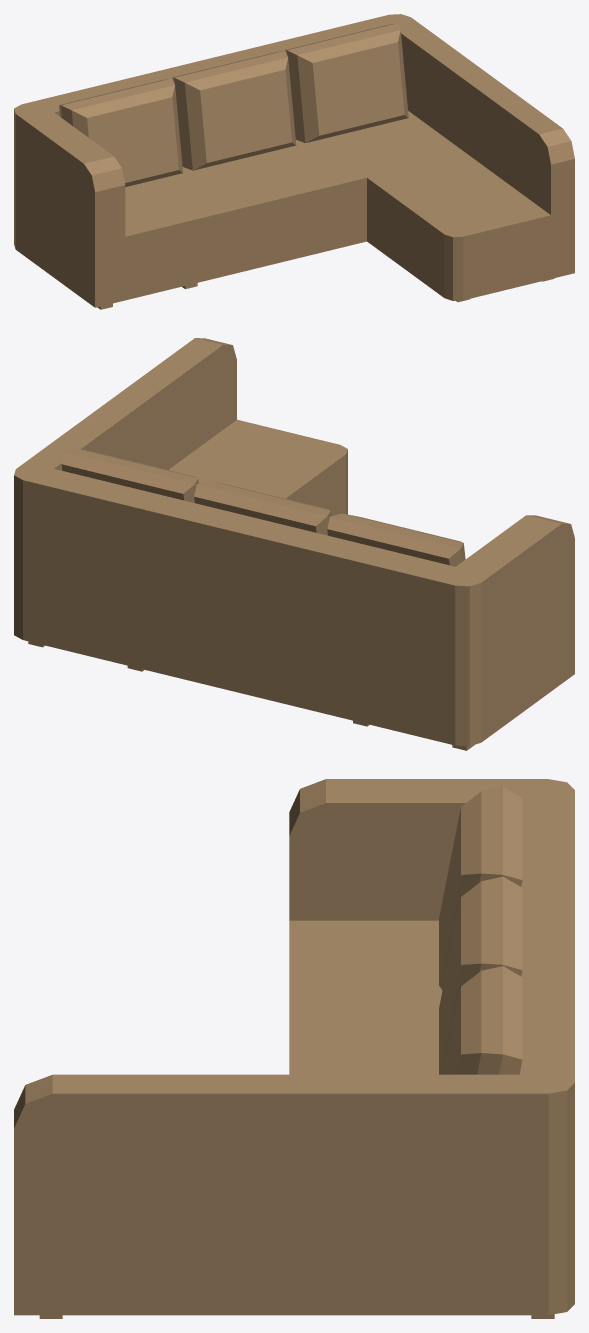
The model's file is Couch.glb.
3 renders of one model, top to bottom at view 1: azimuth 30°, elevation 25°; view 2: azimuth 150°, elevation 25°; view 3: azimuth 270°, elevation 25°, orthographic. The views are drawn at different scales.
Parts seen in each view (by area): view 1: Couch; view 2: Couch; view 3: Couch.
Part boxes in pixels (bbox=[...]): Couch: bbox=[14, 14, 574, 309]; Couch: bbox=[14, 338, 574, 750]; Couch: bbox=[14, 779, 574, 1318].
Size of the model in its own units: 4.15 by 1.55 by 3.12.
